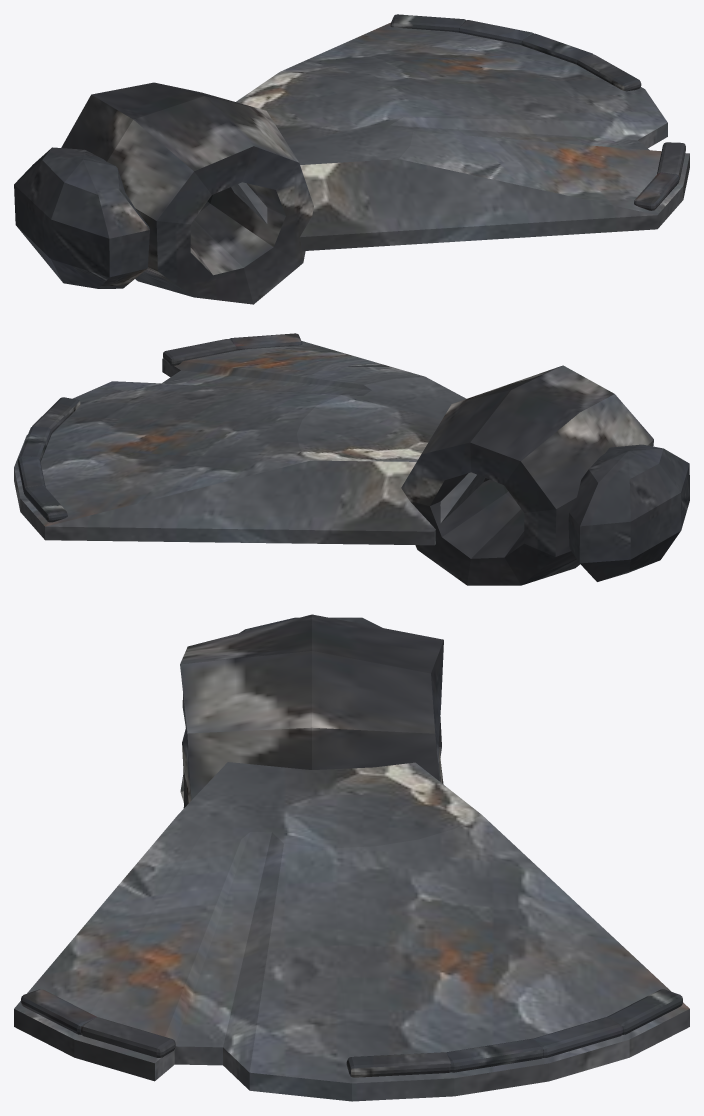
The model's file is junk_axe_head.glb.
The picture shows the model from 3 angles, top to bottom: view 1: azimuth 30°, elevation 25°; view 2: azimuth 150°, elevation 25°; view 3: azimuth 270°, elevation 25°; orthographic projection. The views are drawn at different scales.
Visible parts, largest first — view 1: model; view 2: model; view 3: model.
Boxes of the visible parts, box(x1,y1,x2,y2) form: model: box(14, 14, 689, 304); model: box(14, 333, 689, 585); model: box(14, 614, 689, 1101).
Size of the model in its own units: 0.2754 by 0.0758 by 0.2031.
3 materials, 3 textured.
